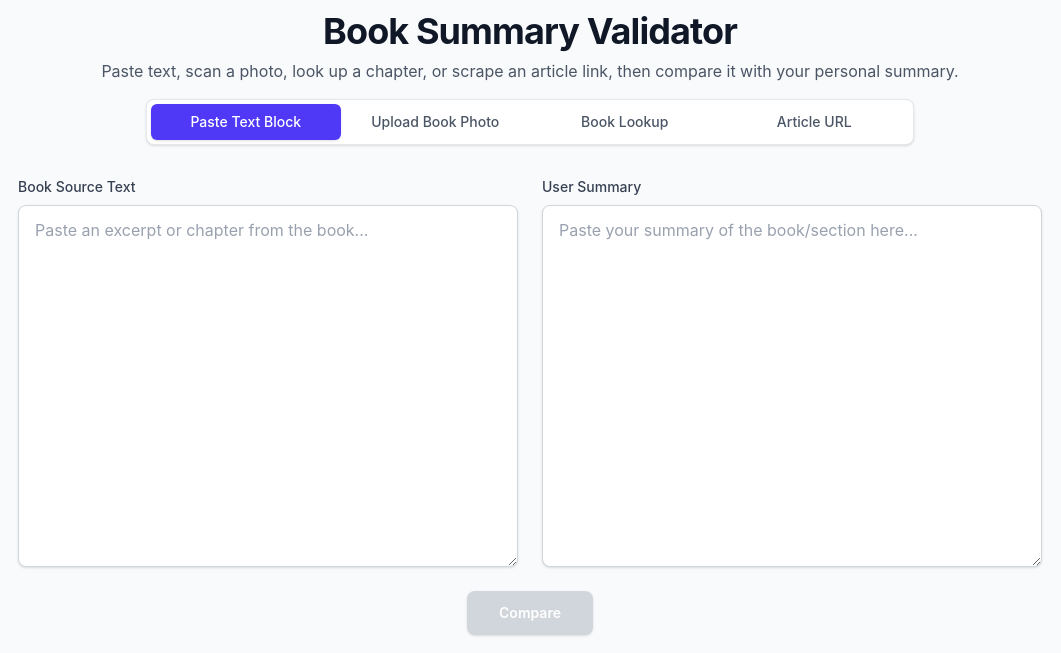
Scenario: App › clears lookup extraction when switching tabs
The width and height of the screenshot is (1061, 653).
Click the tab "Book Lookup": click(625, 122) [530, 104, 720, 140]
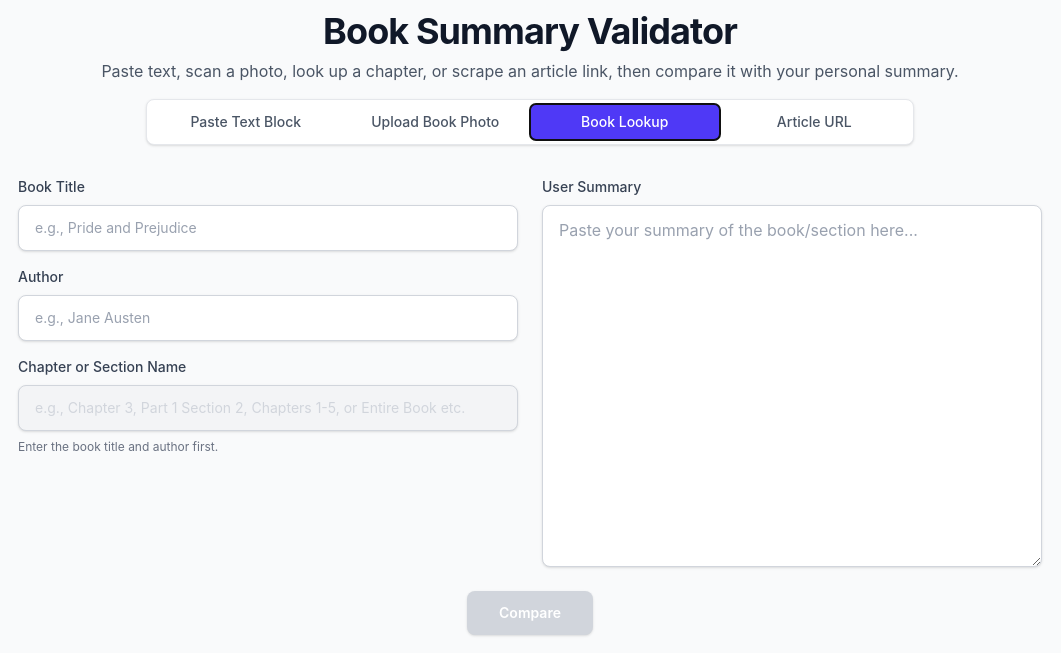
In the field labelled "Book Title": (268, 228) [18, 205, 518, 251], type "Pride and Prejudice"
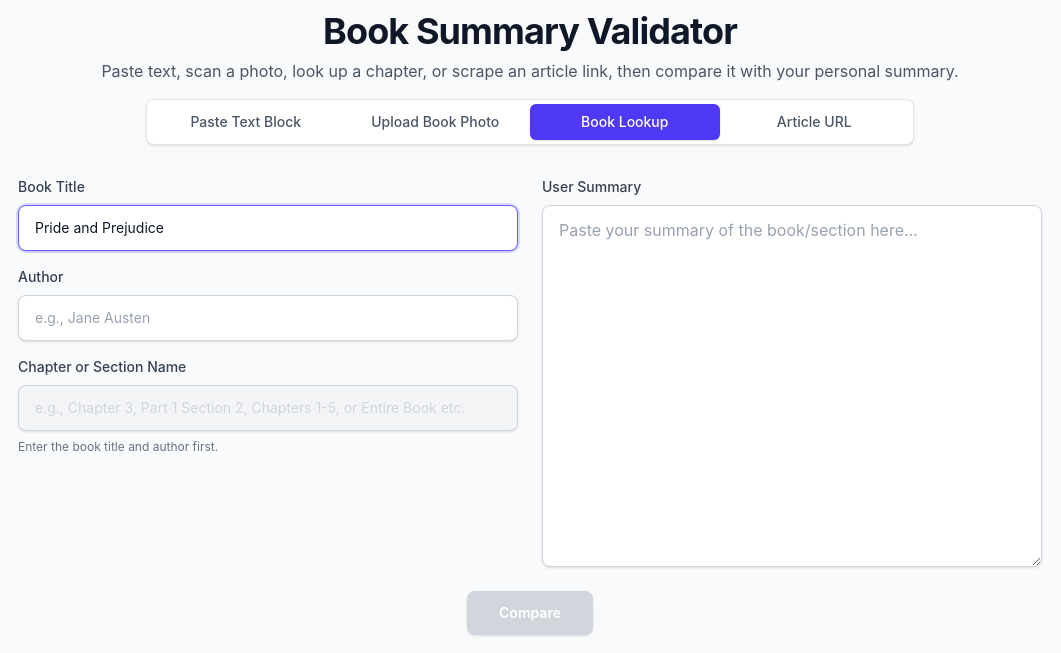
In the field labelled "Author": (268, 318) [18, 295, 518, 341], type "Jane Austen"
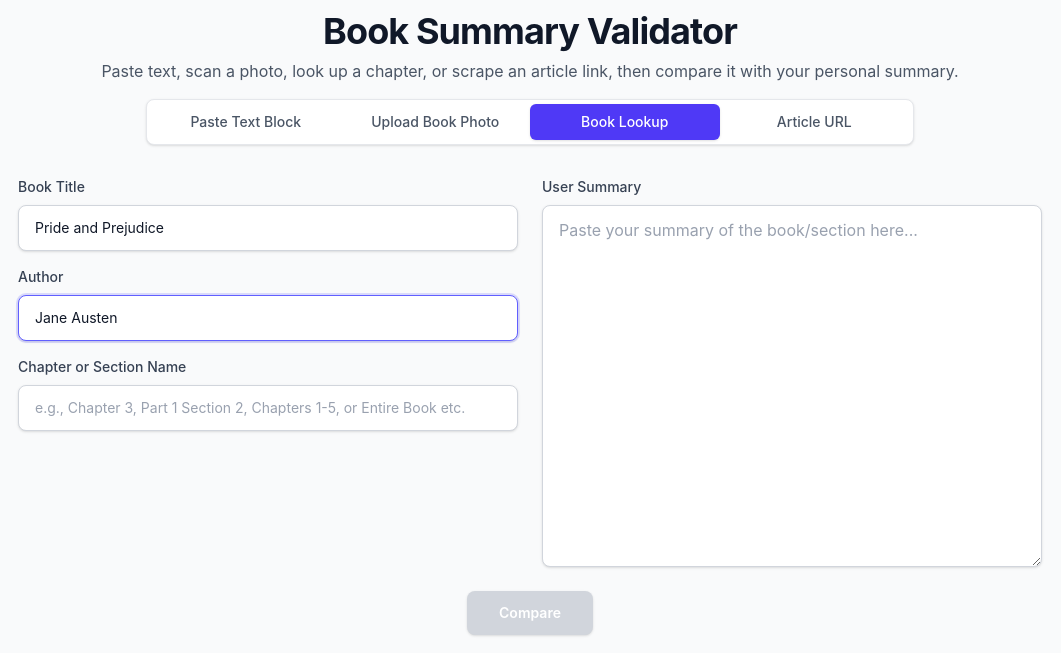
In the field labelled "Chapter or Section Name": (268, 408) [18, 385, 518, 431], type "Chapter 3"
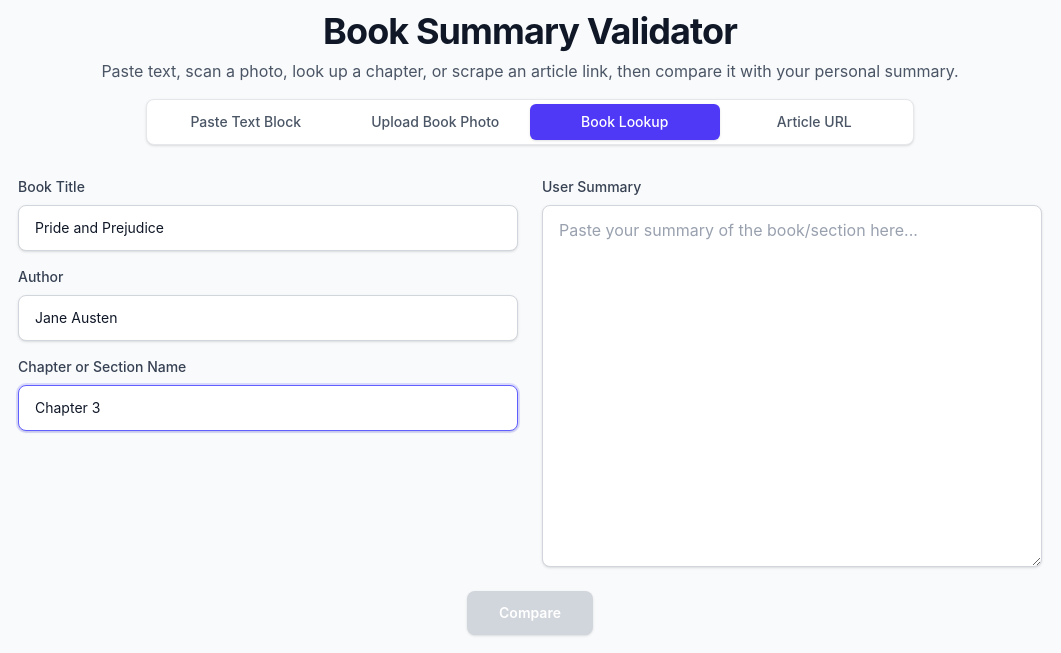
Press Tab
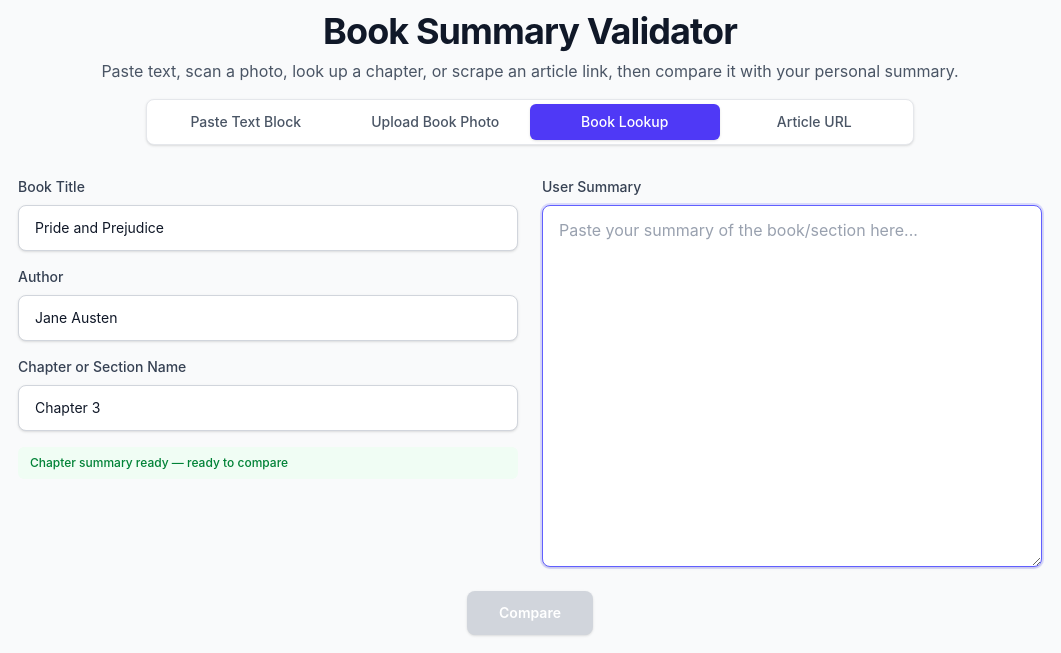
Now the text "Chapter summary ready — ready to compare" is shown, box [18, 447, 518, 479]
Click the tab "Paste Text Block": click(246, 122) [151, 104, 340, 140]
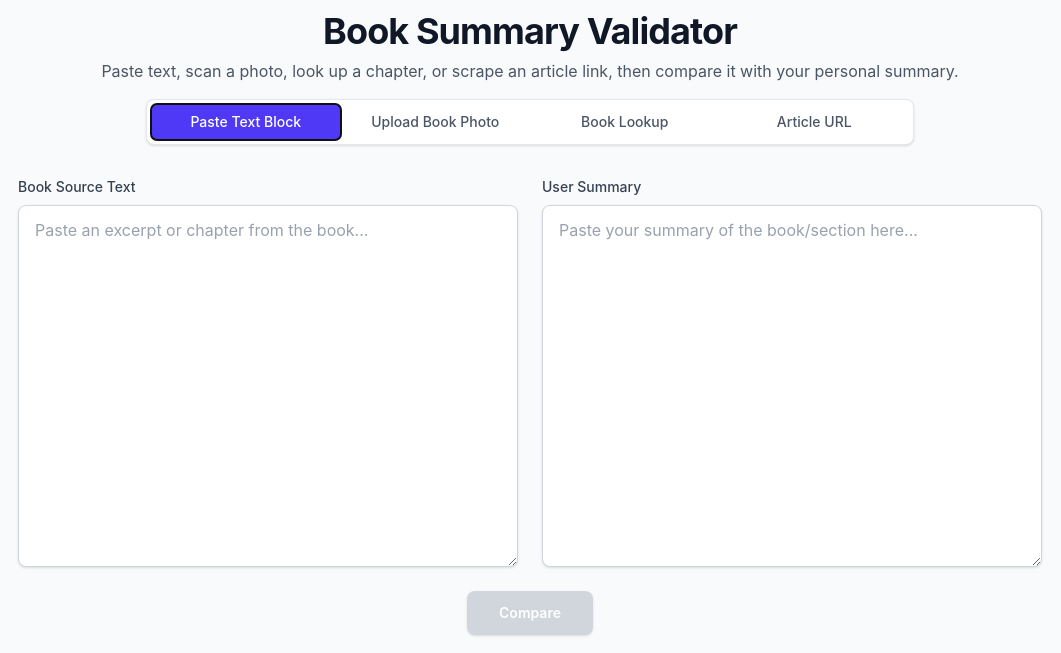
Now the text "Chapter summary ready — ready to compare" is gone
